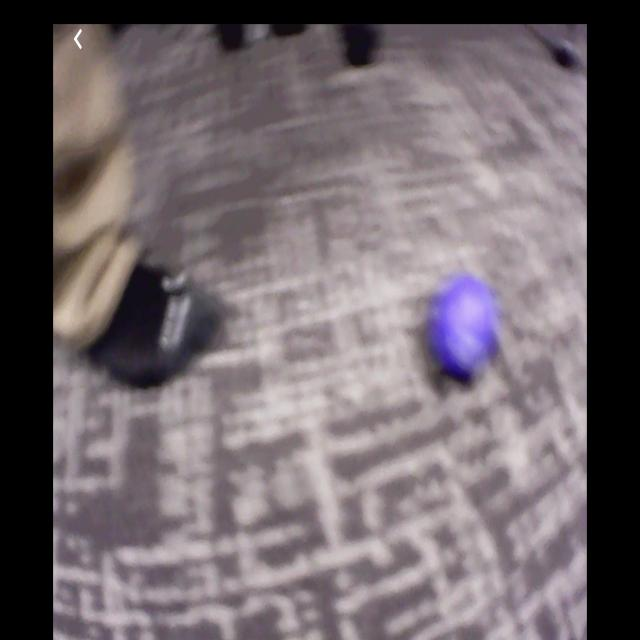ball: (431, 275, 496, 382)
